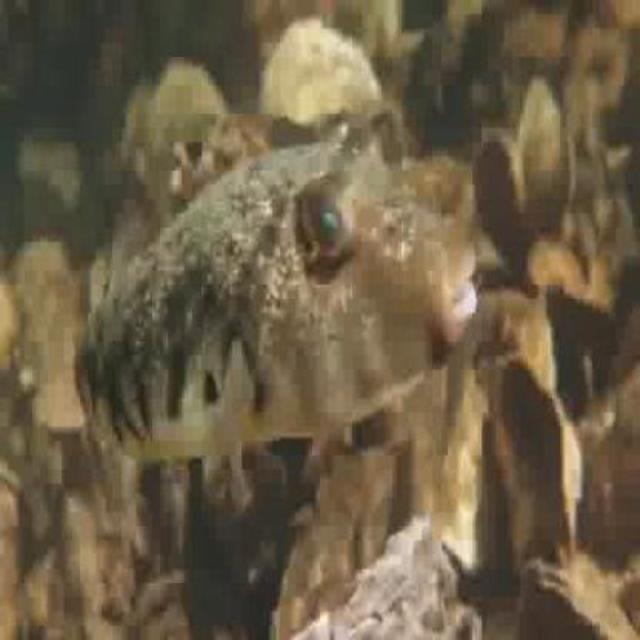Oyster-Closed: (421, 294, 557, 574), (297, 522, 486, 640), (11, 242, 82, 434), (263, 18, 382, 123), (147, 61, 223, 205), (127, 568, 260, 640), (519, 560, 638, 640), (519, 80, 574, 240), (121, 76, 154, 187), (0, 462, 21, 563)
Oyster-Open: (176, 115, 243, 194)
